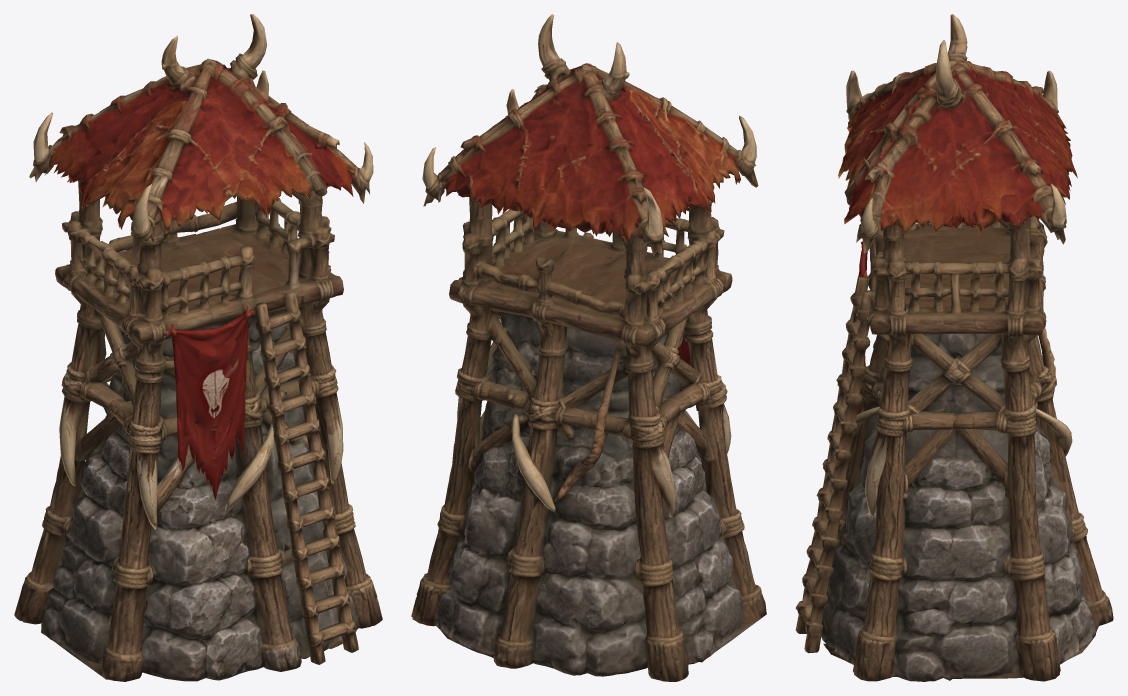
Rendered from SK_Tower_Tripo.glb.
The picture shows the model from 3 angles, left to right: view 1: azimuth 30°, elevation 25°; view 2: azimuth 150°, elevation 25°; view 3: azimuth 270°, elevation 25°; orthographic projection. The views are drawn at different scales.
Parts seen in each view (by area): view 1: SK_Tower_Tripo; view 2: SK_Tower_Tripo; view 3: SK_Tower_Tripo.
Part boxes in pixels (<box>): SK_Tower_Tripo: <box>14,14,382,681</box>; SK_Tower_Tripo: <box>411,14,766,681</box>; SK_Tower_Tripo: <box>795,14,1113,681</box>.
Size of the model in its own units: 0.4899 by 0.9996 by 0.4827.
Materials: 1 (1 with a texture image).
